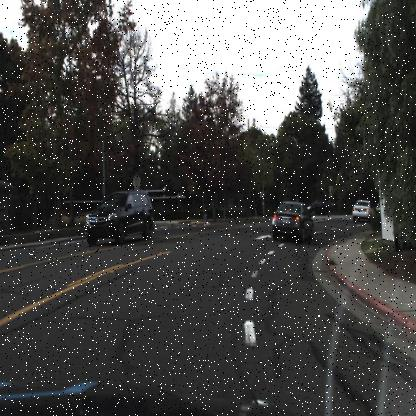car: (81, 186, 158, 250), (270, 199, 314, 245), (351, 196, 376, 226), (304, 198, 335, 220)
